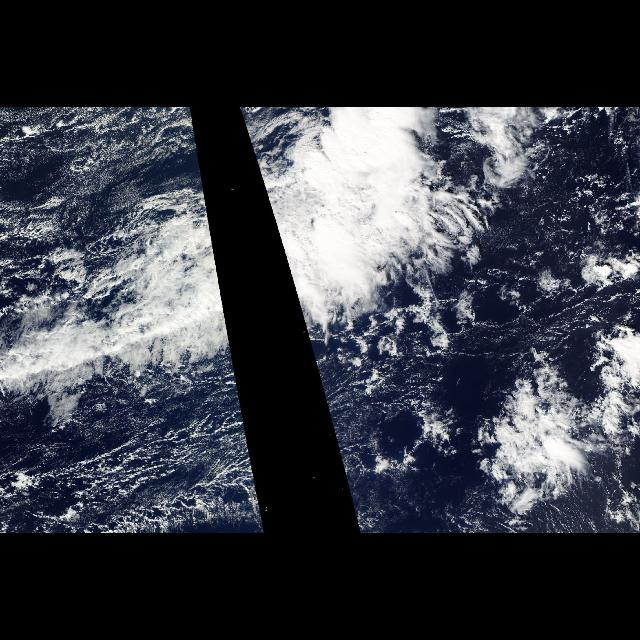Fish: (2, 251, 240, 403), (282, 251, 332, 403)
Gravel: (4, 408, 262, 528), (328, 414, 416, 528)
Sugar: (0, 107, 212, 245)
